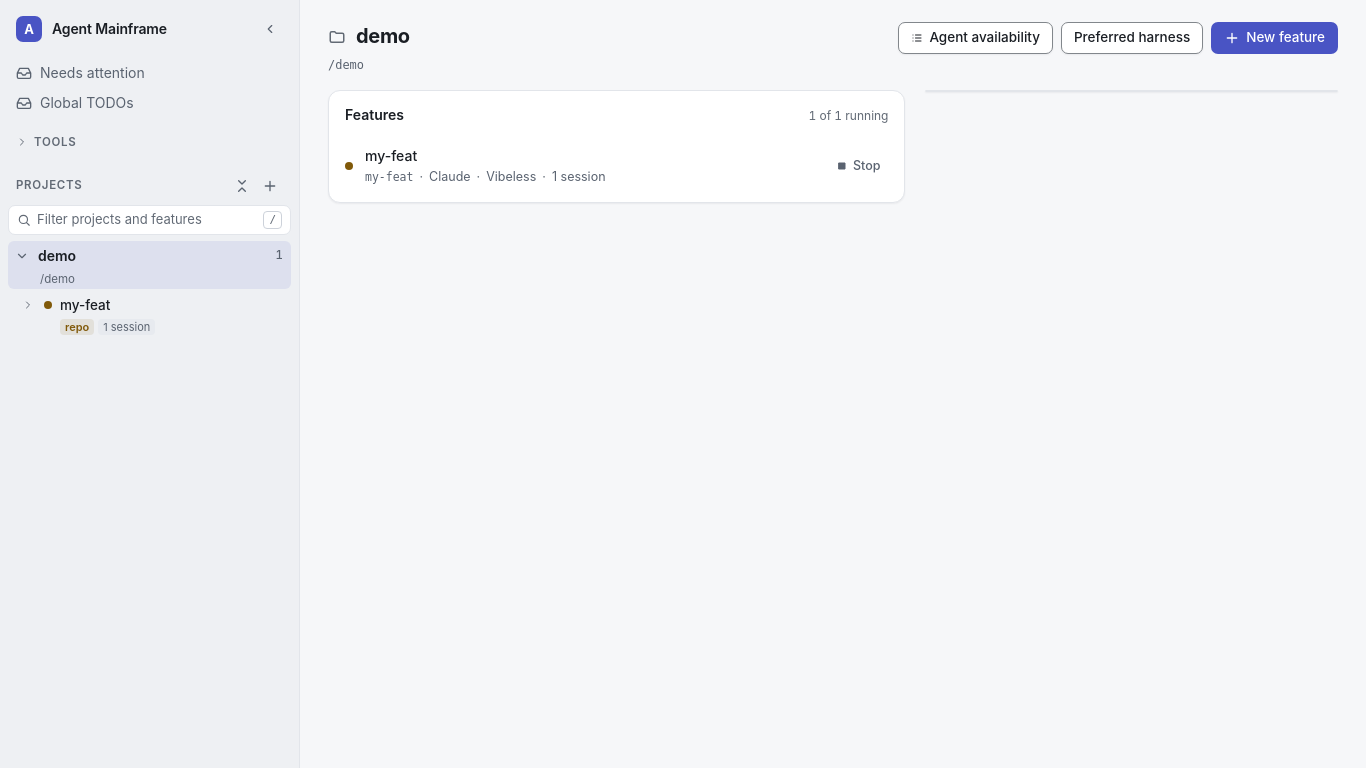
Test case: gates the Learning handoff and preserves an existing unsent draft (false)
What coordinates should you click on to do the following:
click the button "my-feat"
I would click on:
 (172, 305)
Its box is [60,296,285,315].
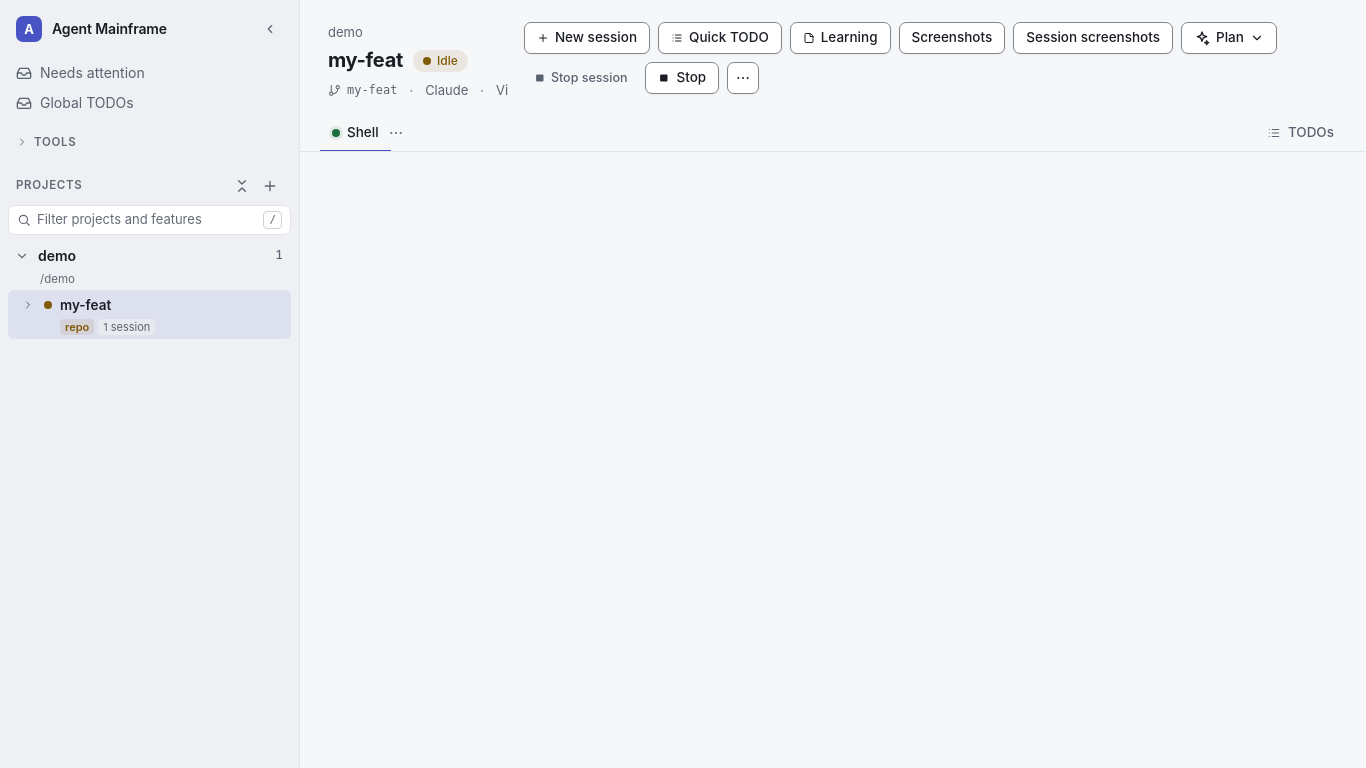
What coordinates should you click on to do the following:
click the button "Learning"
I would click on:
 (840, 38)
Its box is [790,22,890,54].
(page scrolled)
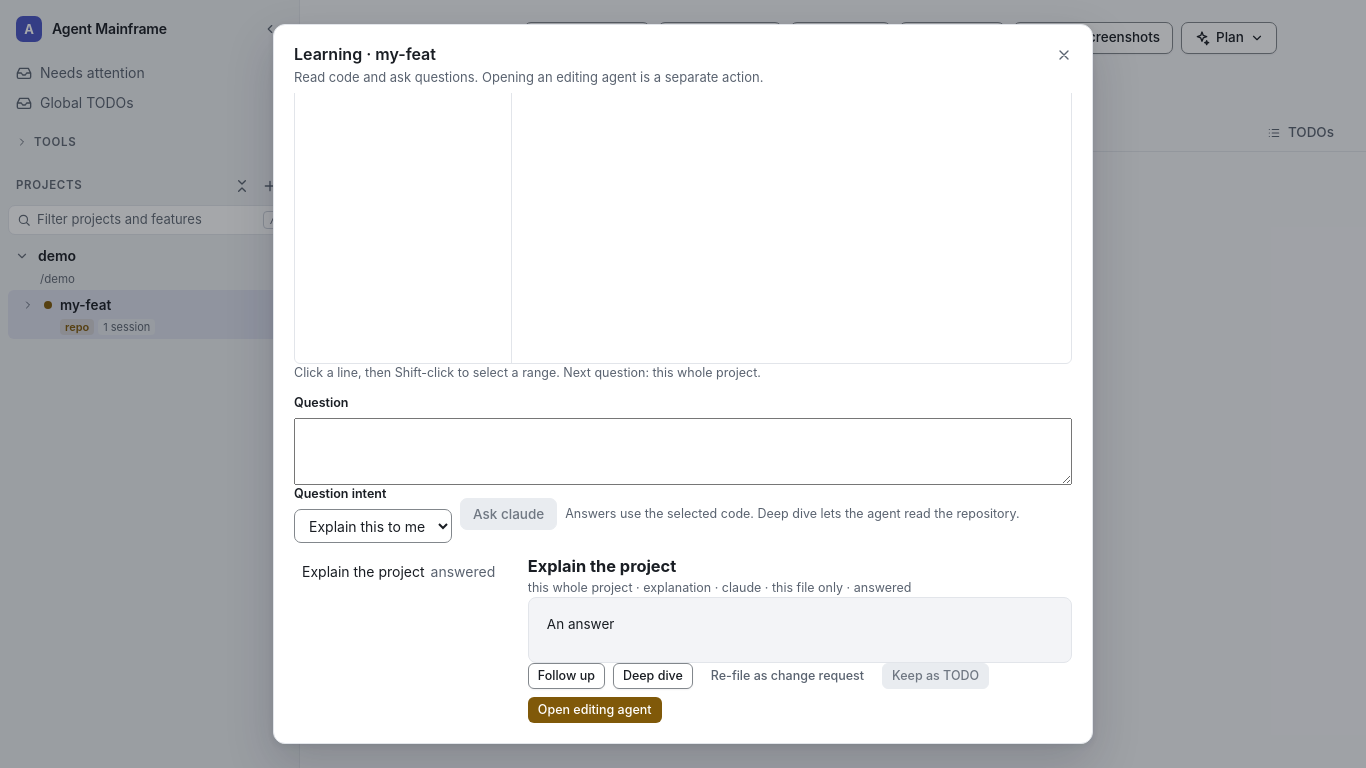
Expected: the dialog "Learning" is shown, [273,24,1093,744]
What coordinates should you click on to do the following:
click the button "Open editing agent"
I would click on:
 (595, 710)
Its box is [528,697,662,723].
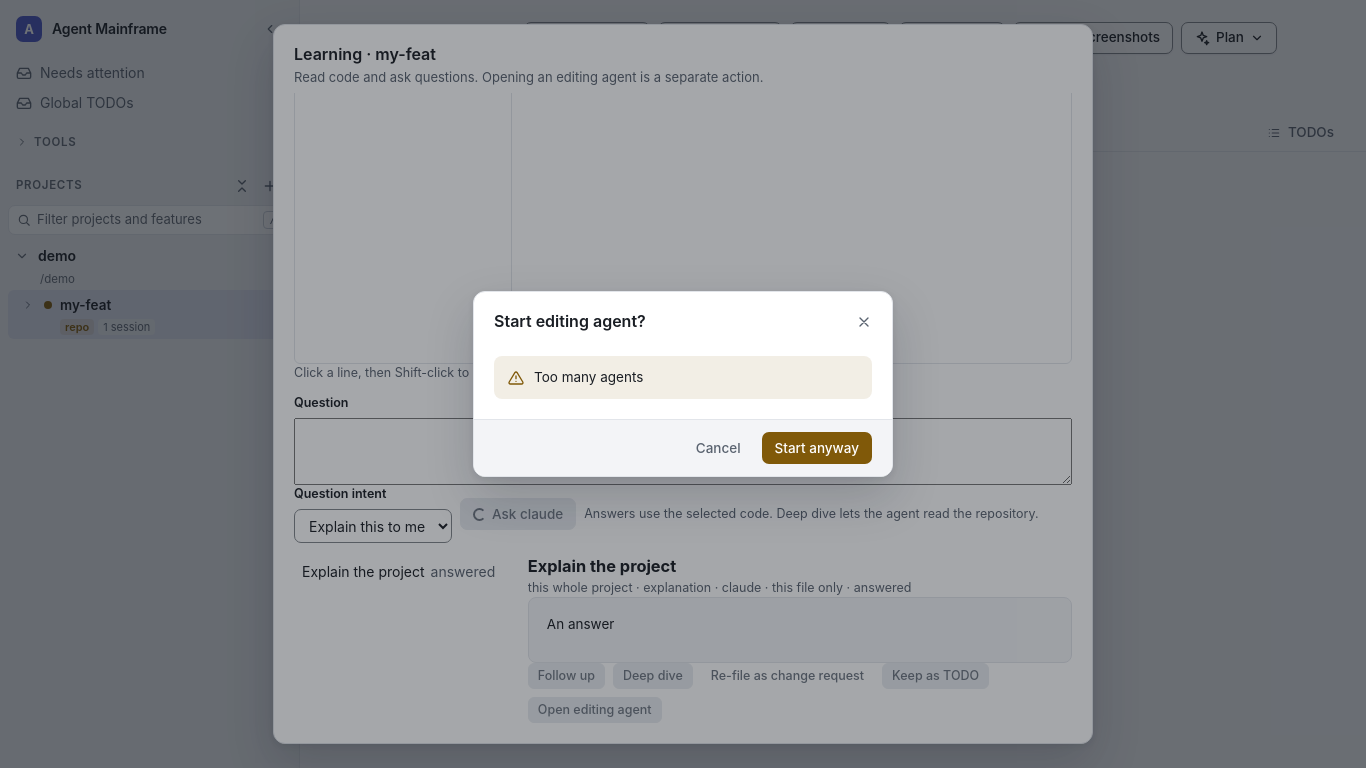
What coordinates should you click on to do the following:
click the button "Cancel"
I would click on:
 (718, 448)
Its box is [683,432,754,464].
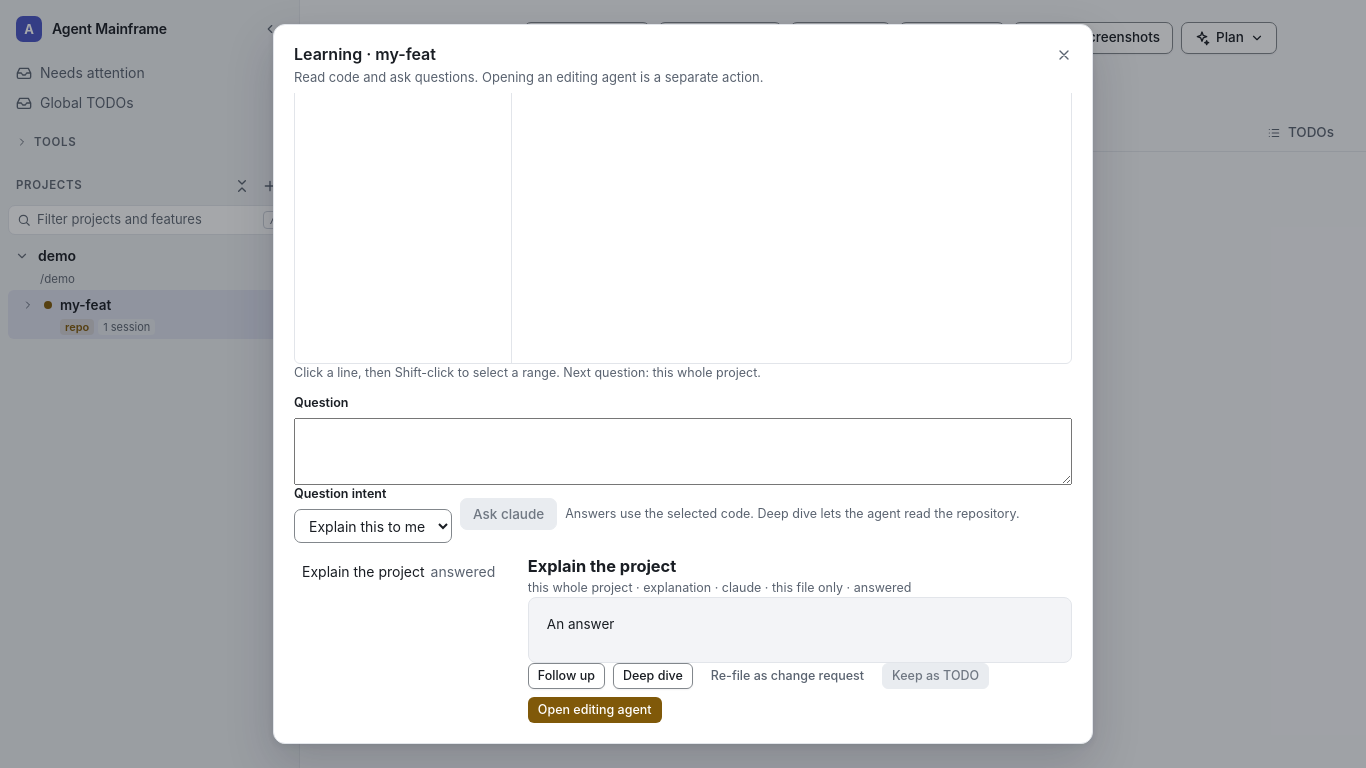
Expected: the dialog "Learning" is shown, [273,24,1093,744]
What coordinates should you click on to do the following:
click the button "Open editing agent"
I would click on:
 (595, 710)
Its box is [528,697,662,723].
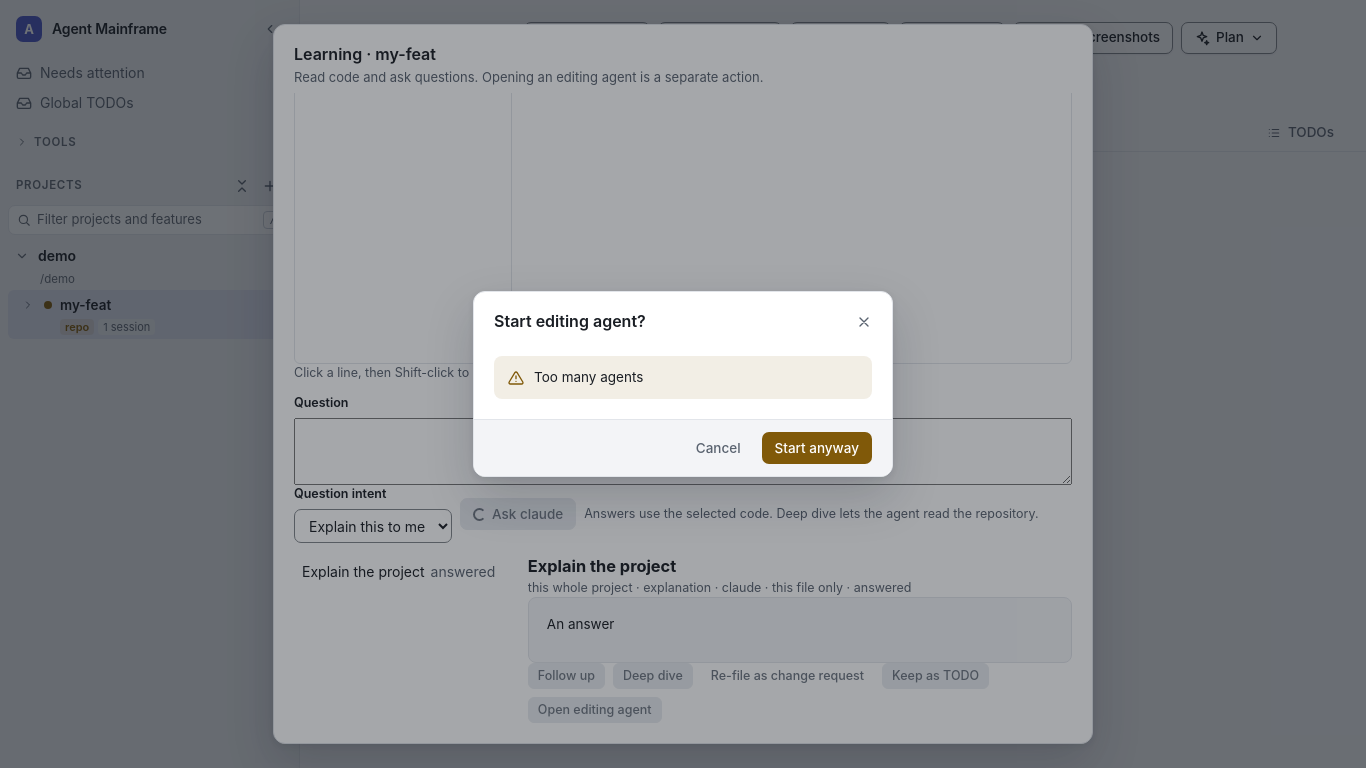
What coordinates should you click on to do the following:
click the button "Start anyway"
I would click on:
 (817, 448)
Its box is [762,432,872,464].
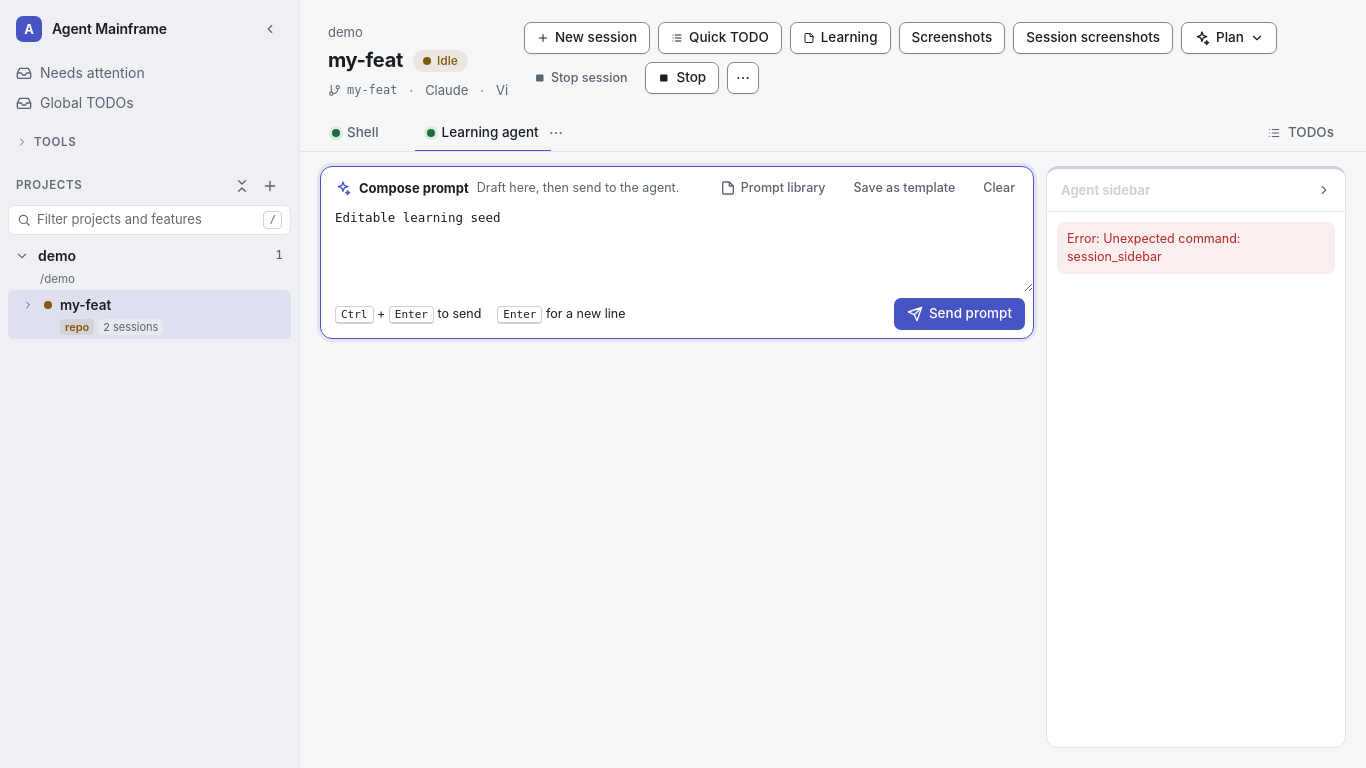
Expected: the text box named "Draft prompt" holds "Editable learning seed", [321,201,1033,292]
